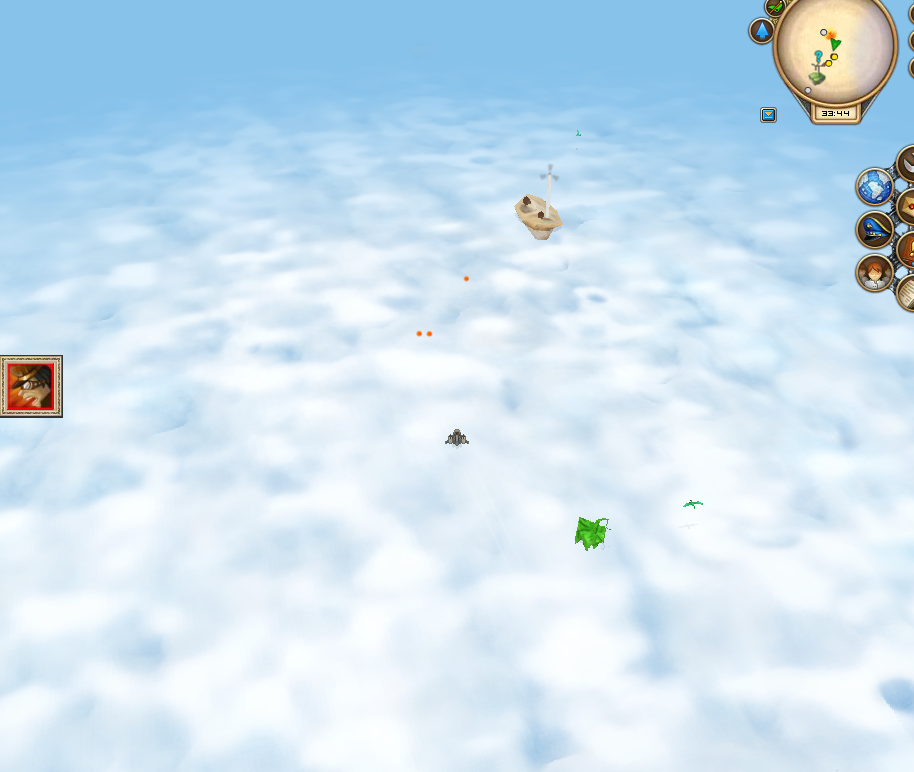dandelion-empty: (572, 510, 615, 551)
fluff: (412, 324, 425, 338), (460, 273, 472, 284), (424, 329, 434, 338)
